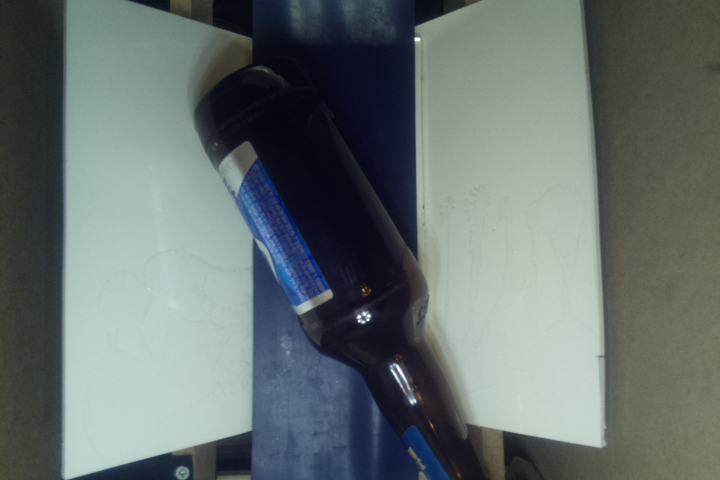makju: (195, 62, 487, 480)
